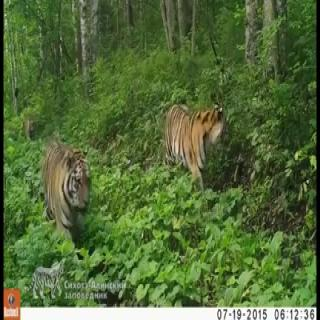Tiger: (28, 119, 96, 242), (150, 85, 231, 186)
